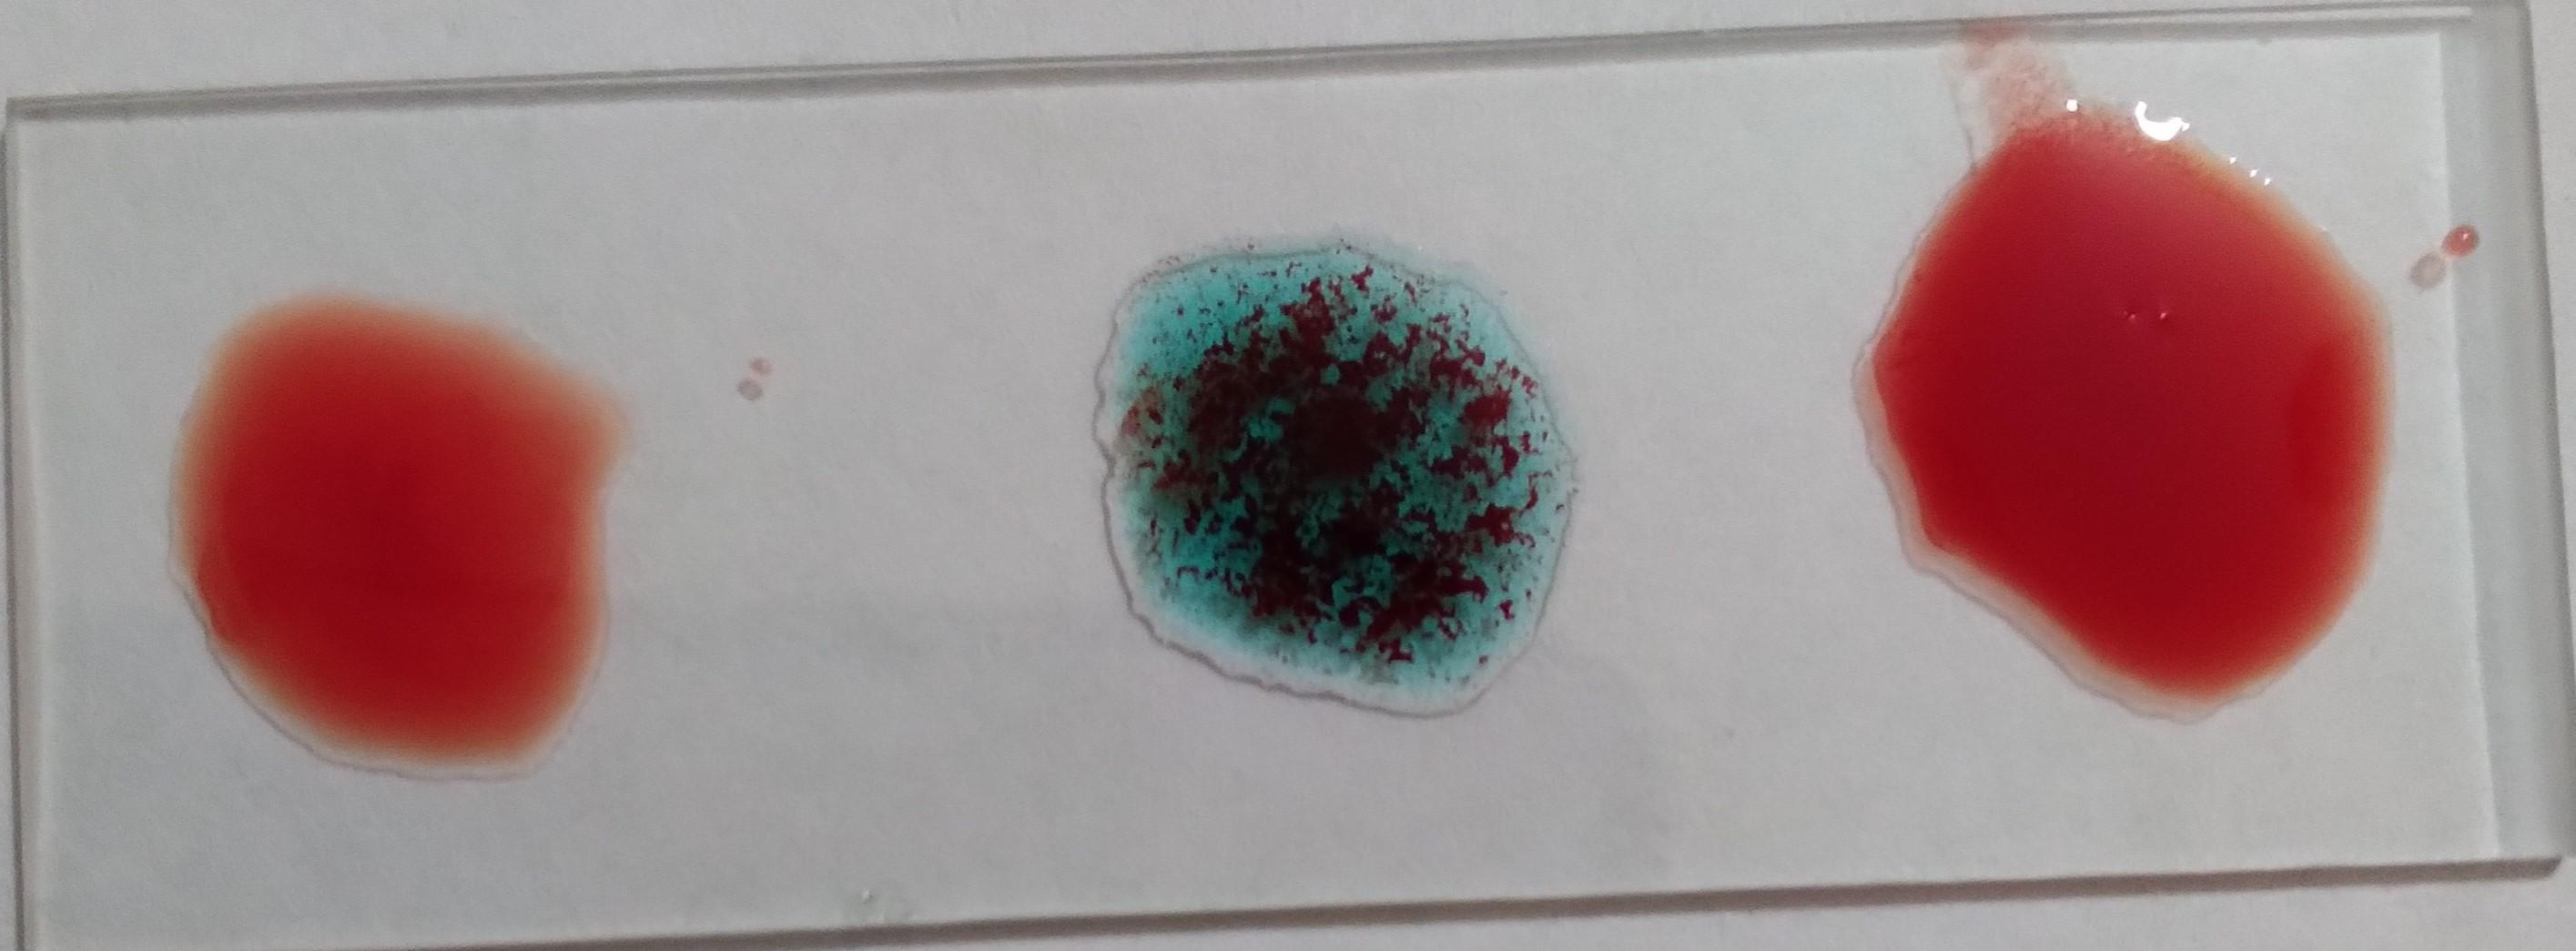A: (1096, 264, 1582, 719)
